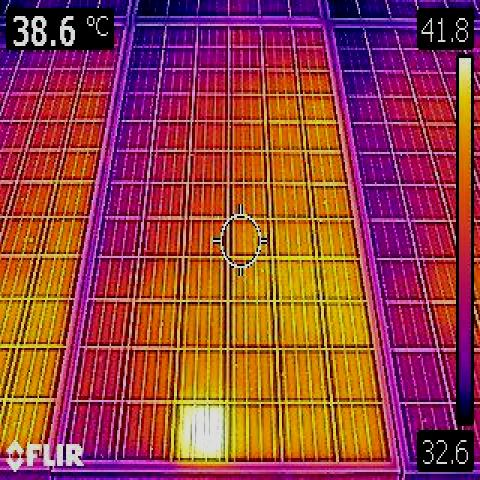fault: (181, 405, 226, 458)
